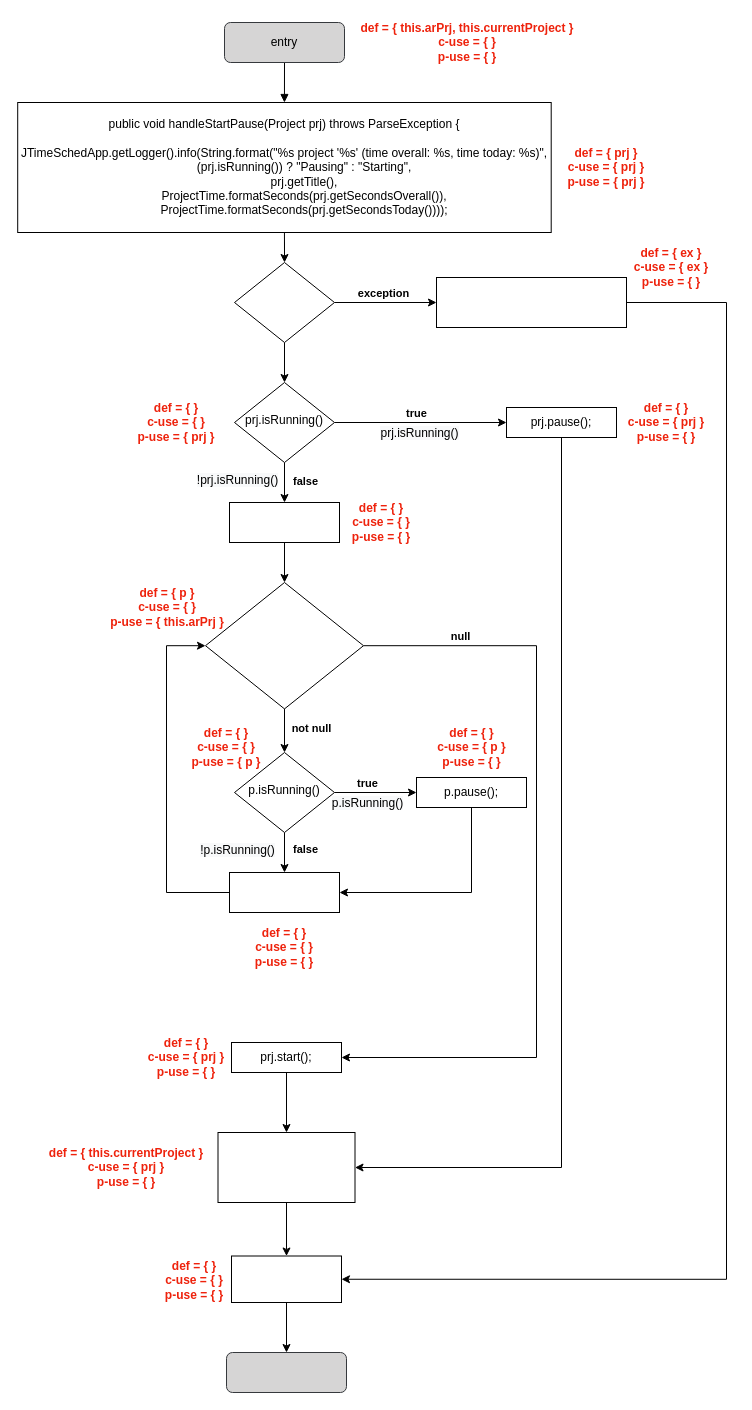
The diagram is 752 pixels wide and 1410 high, and some of its shapes have lost their labels. Each missing label, with the box of its shape:
end: (226, 1352, 346, 1392)
for (Project p : this.arPrj) {: (204, 582, 364, 709)
this.currentProject = prj;: (217, 1132, 355, 1202)
} catch (ProjectException ex) { ex.printStackTrace();: (436, 276, 626, 328)
